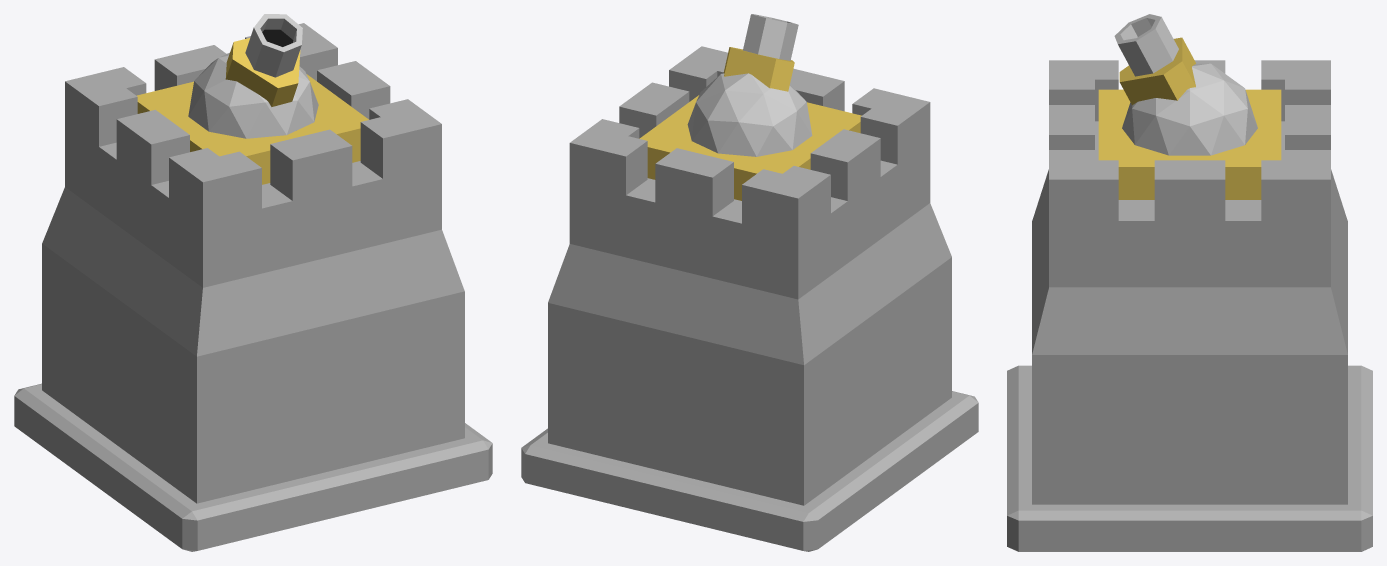
Rendered from mine_mortar.fbx.
The picture shows the model from 3 angles, left to right: view 1: azimuth 30°, elevation 25°; view 2: azimuth 150°, elevation 25°; view 3: azimuth 270°, elevation 25°; orthographic projection. The views are drawn at different scales.
Visible parts, largest first — view 1: Cube.048, Cube.049, Cube, Icosphere.003, Cube.047, Cylinder.009, Cylinder.008; view 2: Cube.048, Cube.049, Cube, Icosphere.003, Cube.047, Cylinder.009, Cylinder.008; view 3: Cube.048, Cube, Cube.049, Cube.047, Icosphere.003, Cylinder.009, Cylinder.008.
Part boxes in pixels (x1,y1,x2,y2): Cube.048: [42, 122, 464, 503]; Cube.049: [65, 23, 441, 222]; Cube: [14, 383, 492, 551]; Icosphere.003: [188, 52, 318, 138]; Cube.047: [137, 74, 368, 184]; Cylinder.009: [245, 14, 302, 77]; Cylinder.008: [225, 38, 300, 106]; Cube.048: [548, 141, 951, 505]; Cube.049: [569, 46, 930, 237]; Cube: [521, 391, 978, 551]; Icosphere.003: [687, 73, 812, 156]; Cube.047: [639, 95, 861, 200]; Cylinder.009: [743, 14, 798, 60]; Cylinder.008: [723, 47, 794, 91]; Cube.048: [1032, 121, 1347, 504]; Cube: [1007, 365, 1372, 551]; Cube.049: [1049, 60, 1330, 220]; Cube.047: [1098, 89, 1281, 199]; Icosphere.003: [1122, 63, 1257, 155]; Cylinder.009: [1114, 14, 1178, 76]; Cylinder.008: [1119, 37, 1195, 105].
Size of the model in its own units: 400 by 556 by 400.
